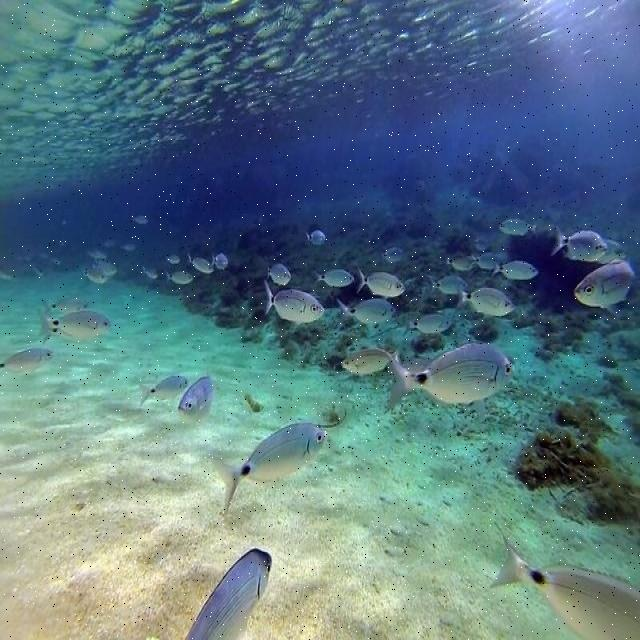fish: (487, 523, 639, 639), (208, 422, 330, 518), (384, 342, 515, 411), (185, 551, 272, 639), (574, 259, 635, 307), (263, 280, 322, 321), (38, 309, 113, 341), (553, 227, 607, 262), (457, 286, 516, 316), (337, 298, 394, 327), (135, 376, 188, 407), (179, 376, 215, 416), (357, 268, 405, 296), (0, 350, 54, 372), (344, 349, 386, 375), (409, 314, 453, 333), (491, 261, 537, 279), (314, 270, 355, 287), (499, 219, 536, 235), (268, 265, 291, 285)
